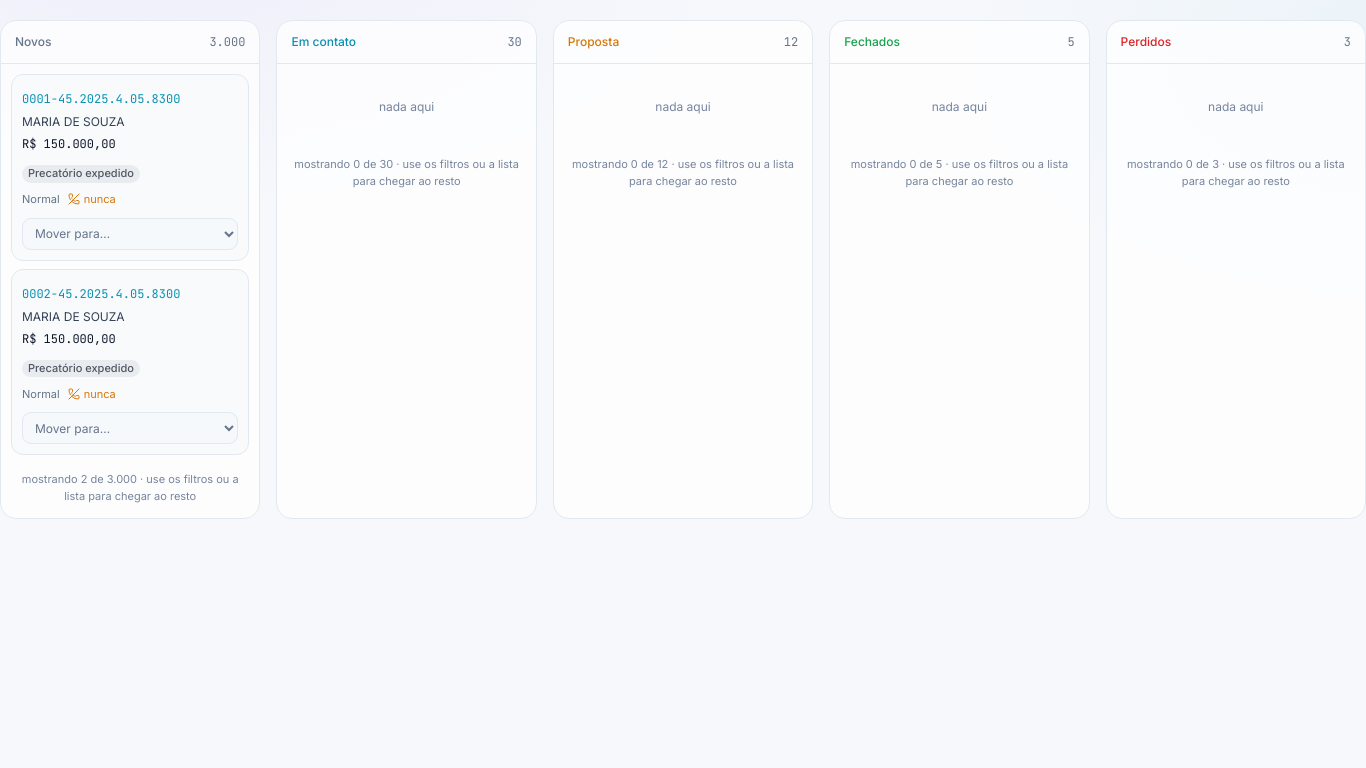
Quadro › FECHADO e PERDIDO pedem confirmação ANTES de gravar
Expected: the element labelled "Novos" is shown, [0,20,260,519]
Select "Fechado" in the dropdown named "Mover 0001-45" at (130, 234), box [22,218,238,250]
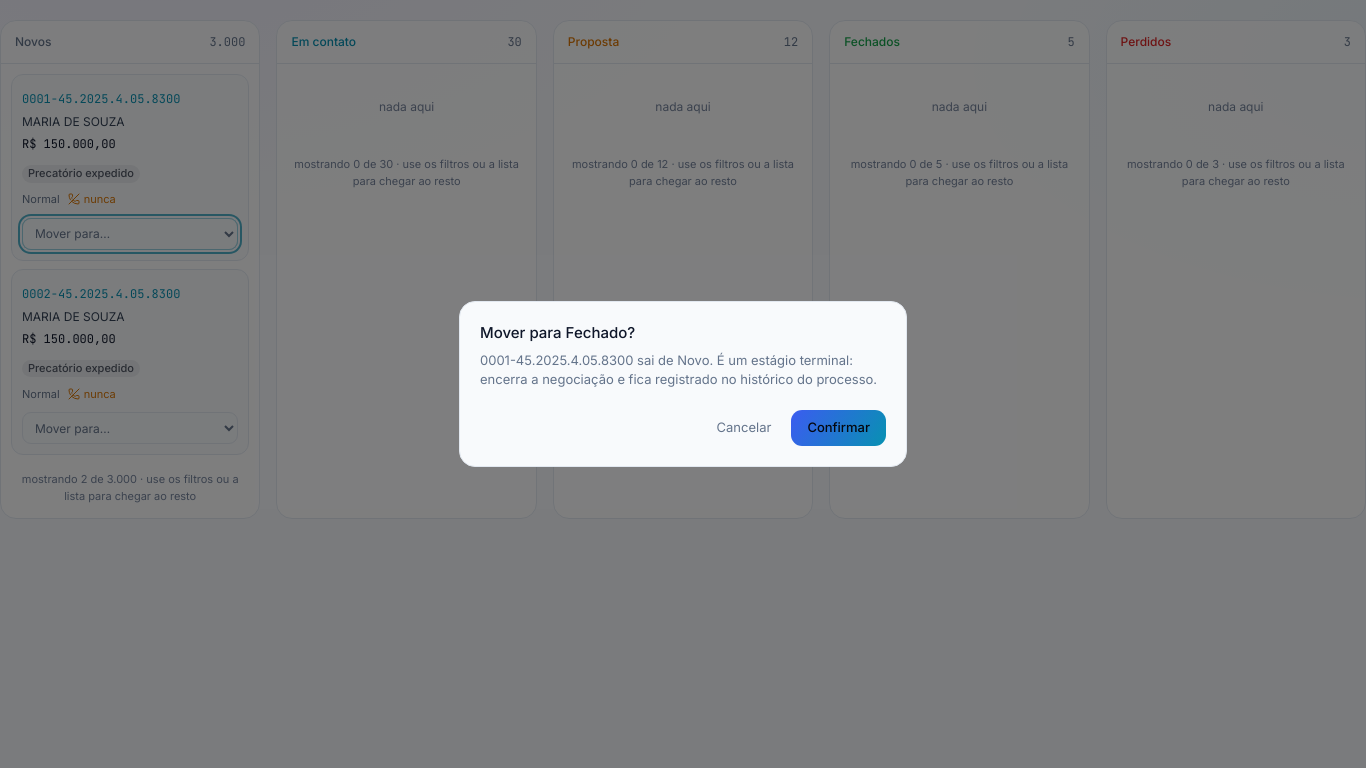
Result: the dialog is shown
